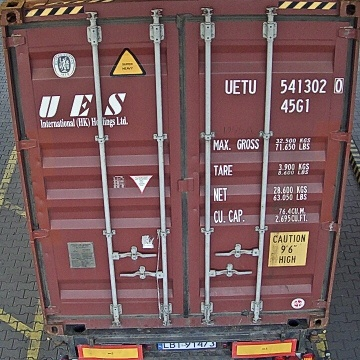serial_id: (225, 78, 343, 93)
